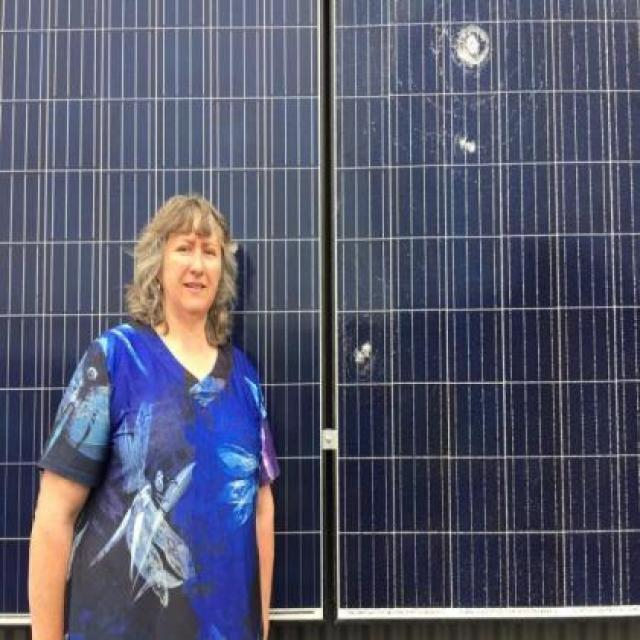cracked: (336, 2, 636, 600)
